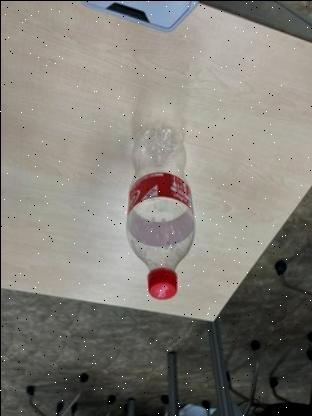Plastic Bottle: (123, 116, 197, 302)
